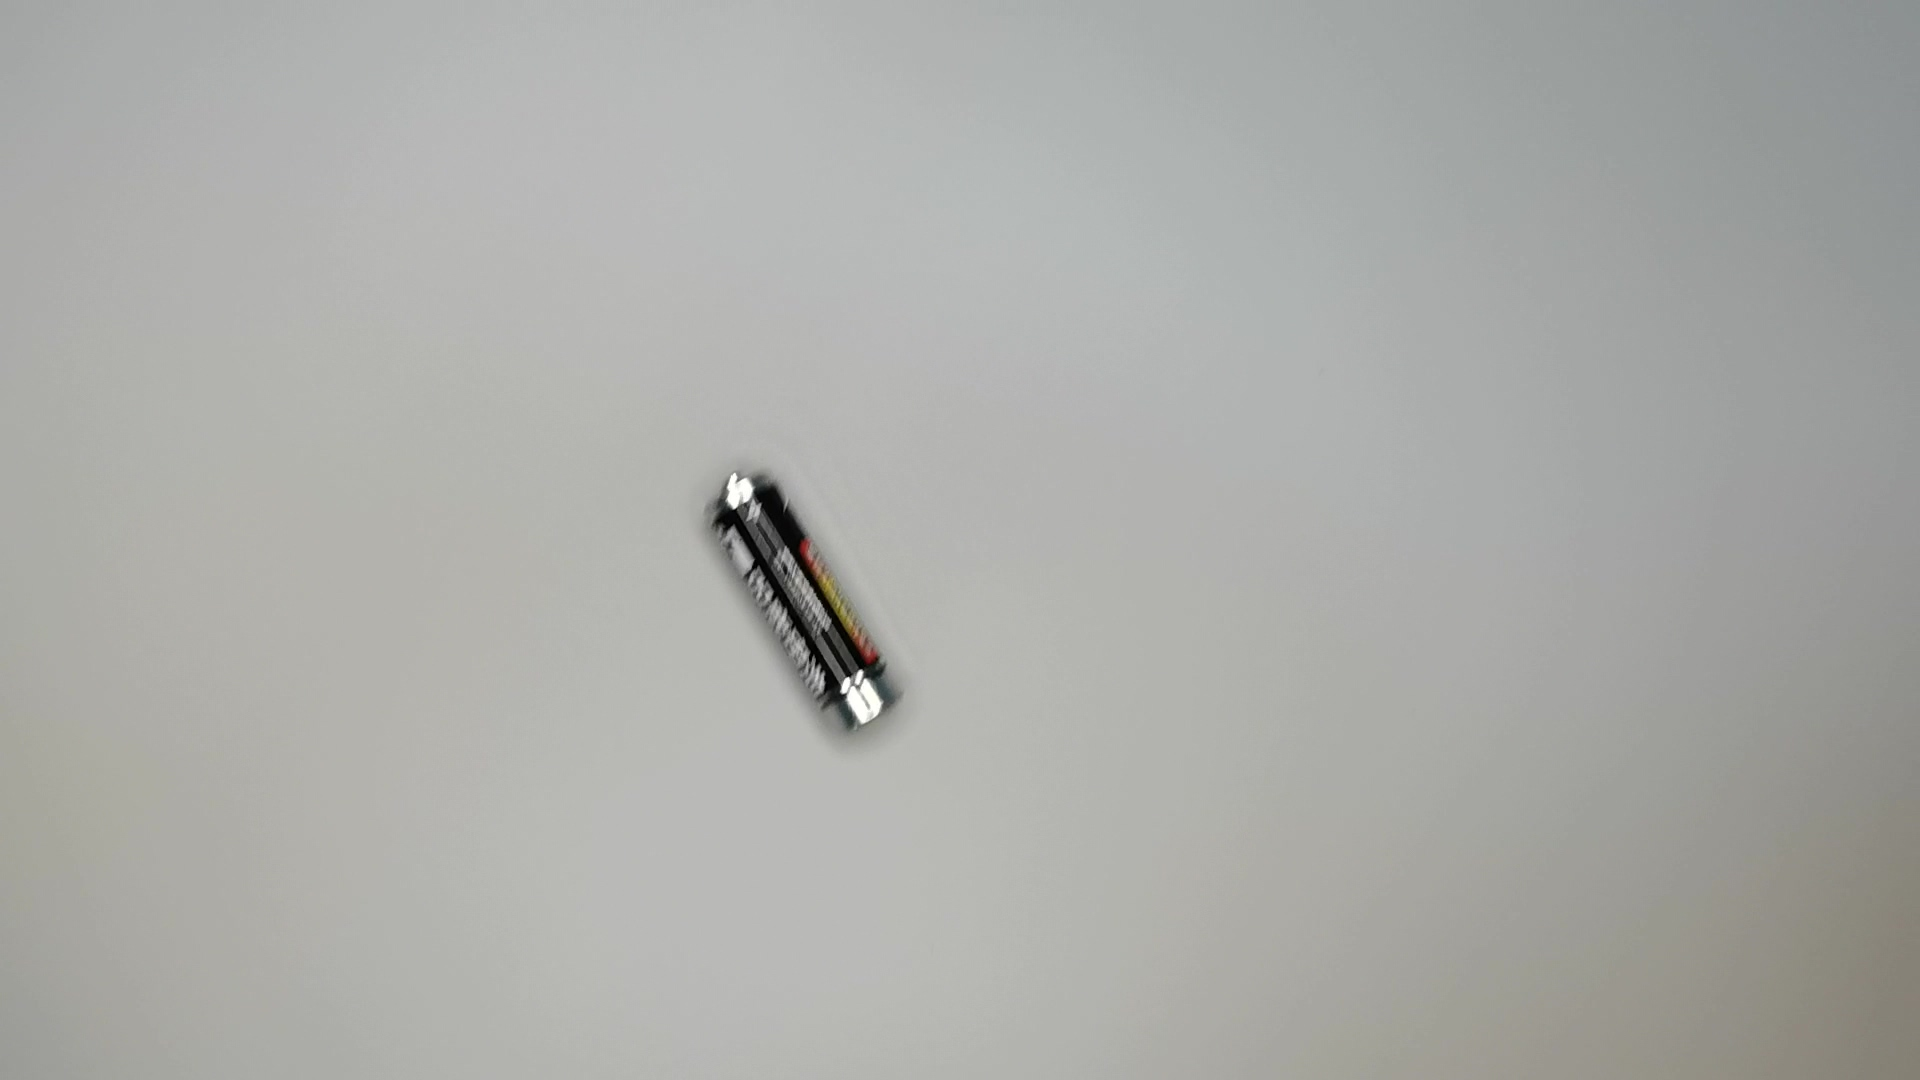battery: (703, 465, 913, 742)
